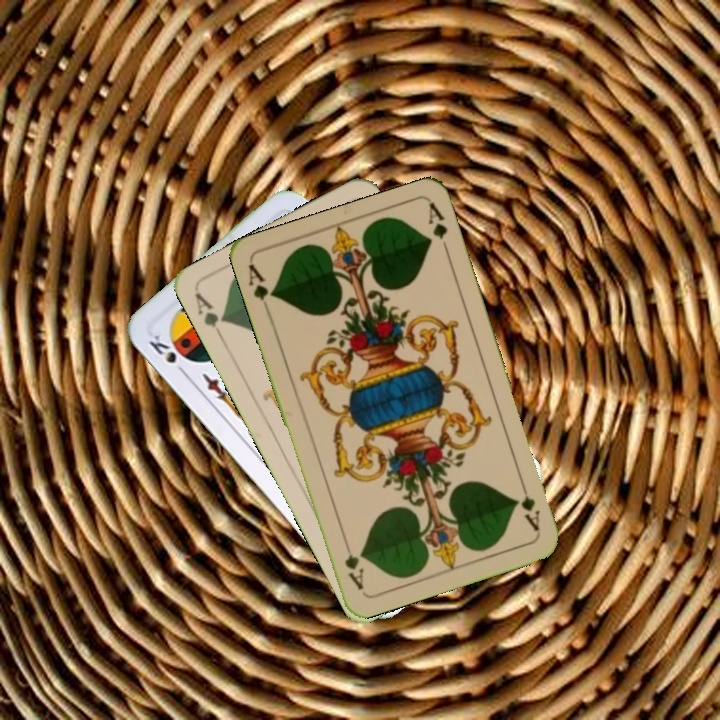GA: (191, 288, 230, 343), (244, 260, 278, 318), (511, 477, 543, 534)
SK: (144, 330, 190, 379)
